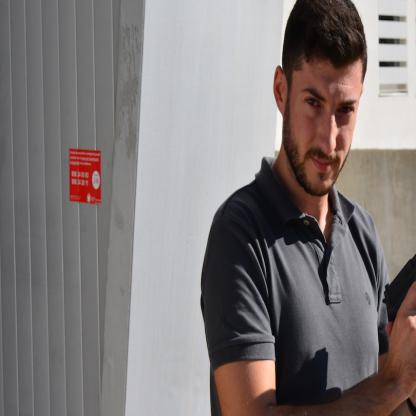gun: (382, 197, 416, 382)
